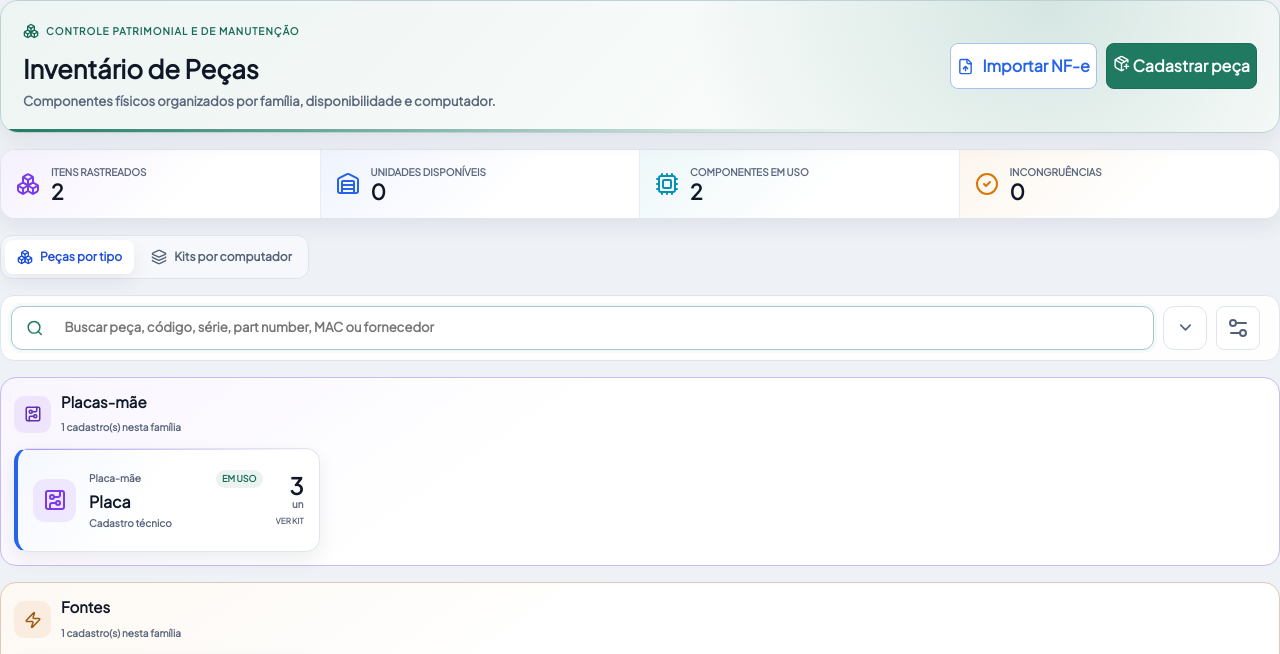
Test case: PartsInventoryPage (kits por computador) › kits por computador › peça instalada leva ao kit, seleciona a aba e foca o cartão
The image size is (1280, 654).
Click the button "Placa".
click(54, 500)  # box 14,448 -> 320,552
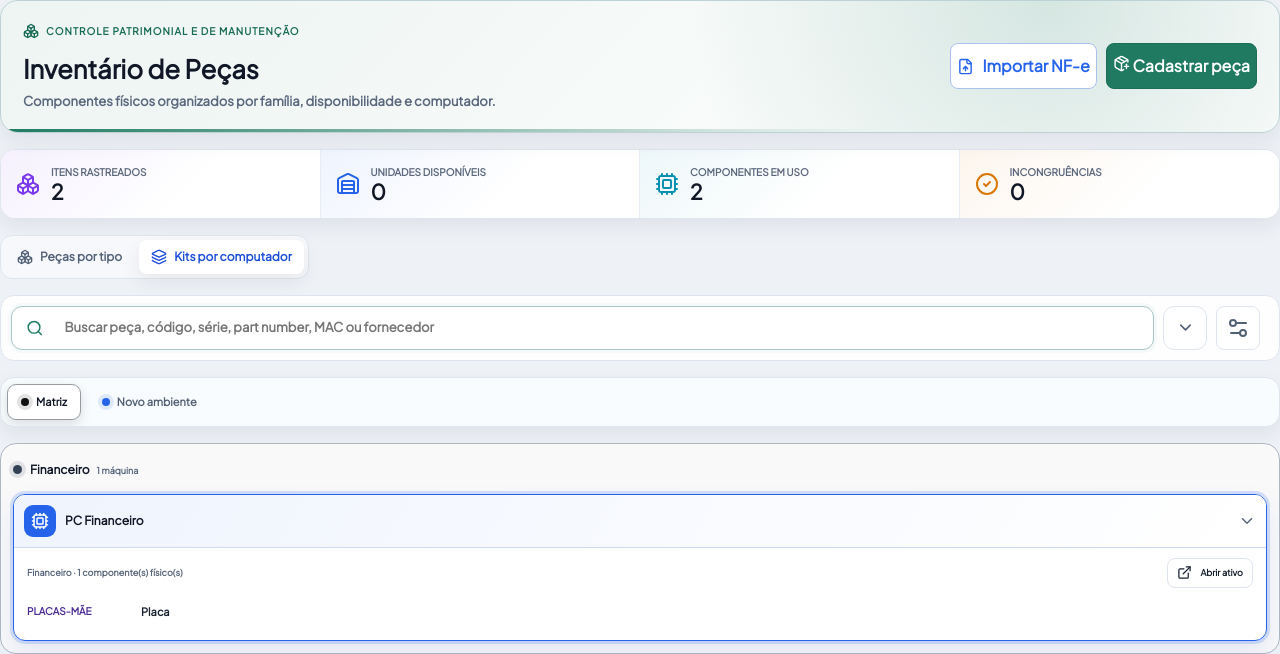
expect the element with class "is-focused" is shown: met, box 13,494 -> 1267,642
